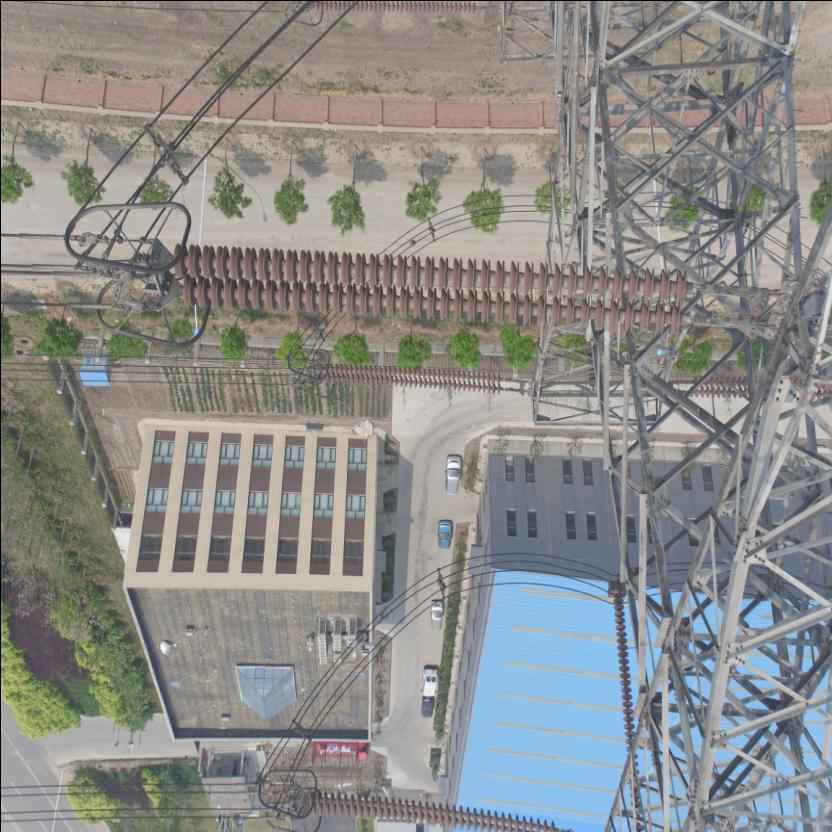insulator: (163, 242, 728, 341), (306, 788, 581, 831)
